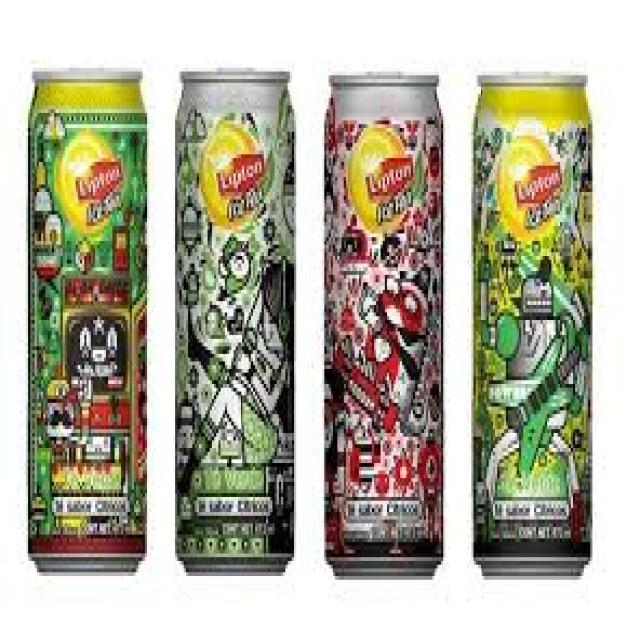Cans: (164, 57, 305, 588), (21, 56, 156, 584), (467, 56, 601, 584), (320, 60, 450, 584)
